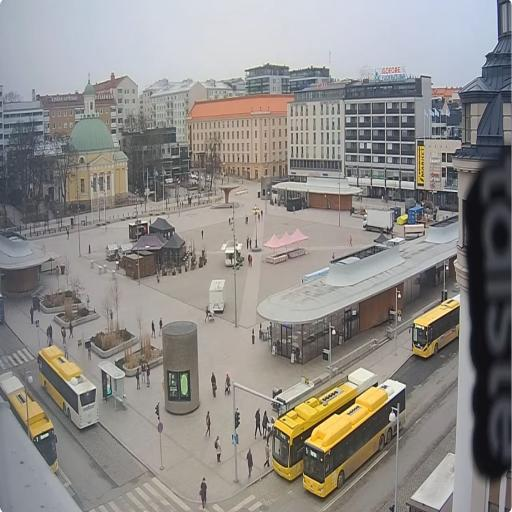bus: (258, 368, 382, 482), (297, 377, 410, 500), (0, 370, 60, 482), (35, 336, 99, 438), (407, 291, 460, 365)
car: (204, 176, 214, 184), (196, 174, 204, 182), (189, 172, 194, 180)
delivery: (362, 202, 394, 238)
